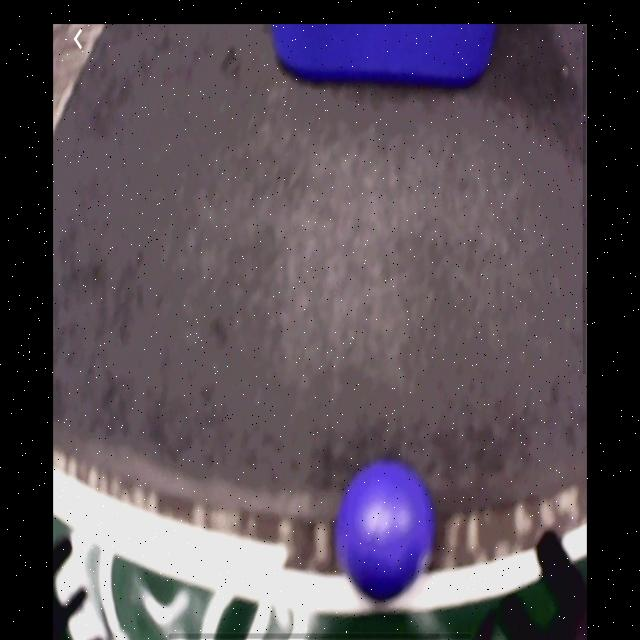ball: (339, 459, 435, 602)
